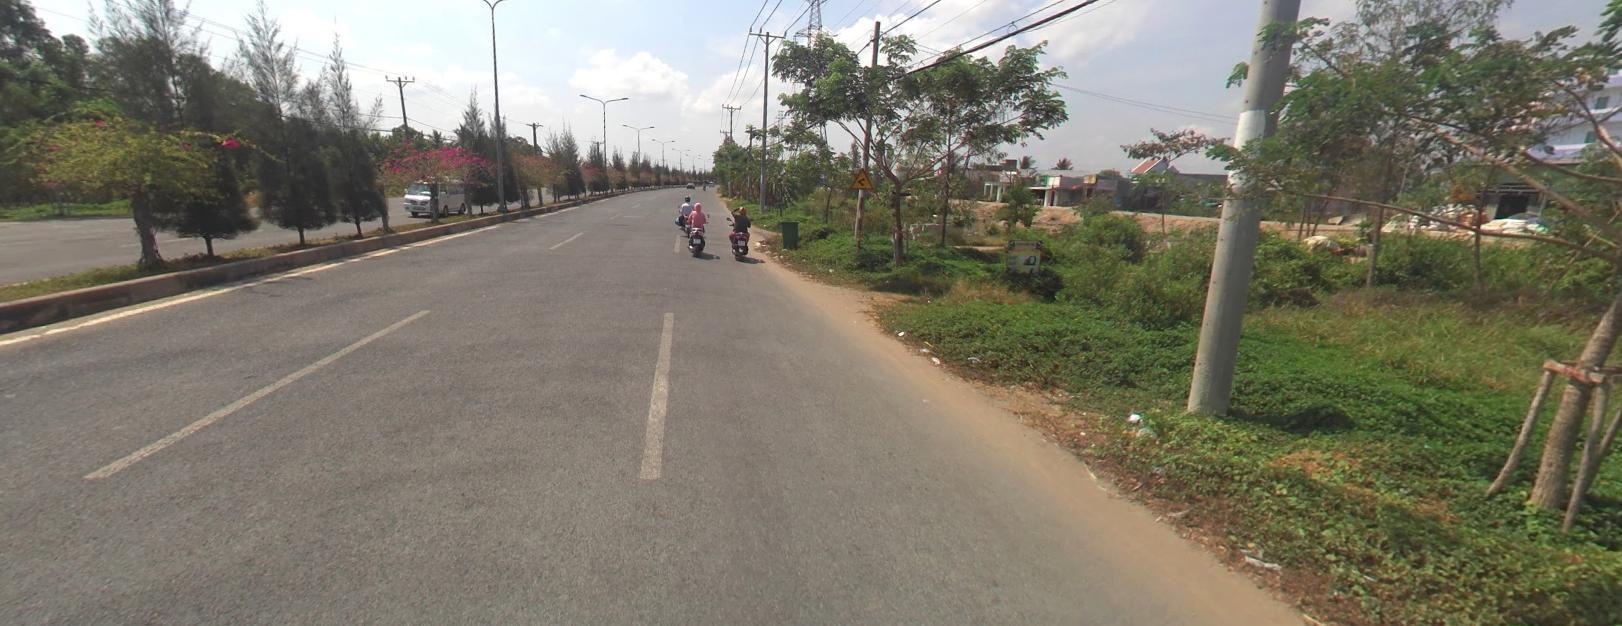Nguy hiem: (850, 168, 873, 188), (850, 167, 872, 187)
